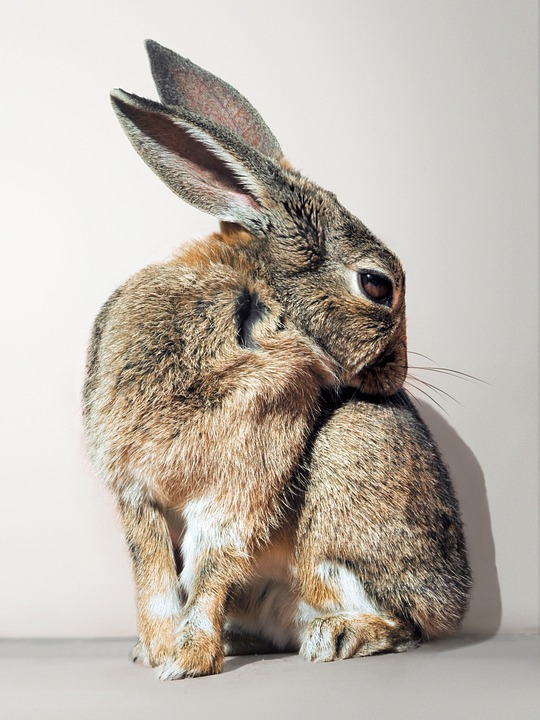bunny: (71, 15, 491, 676)
